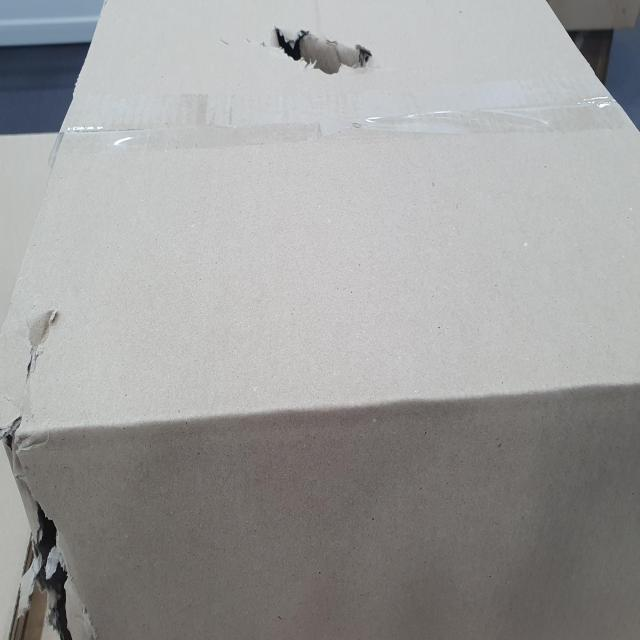damaged: (1, 426, 86, 640), (264, 17, 379, 94)
